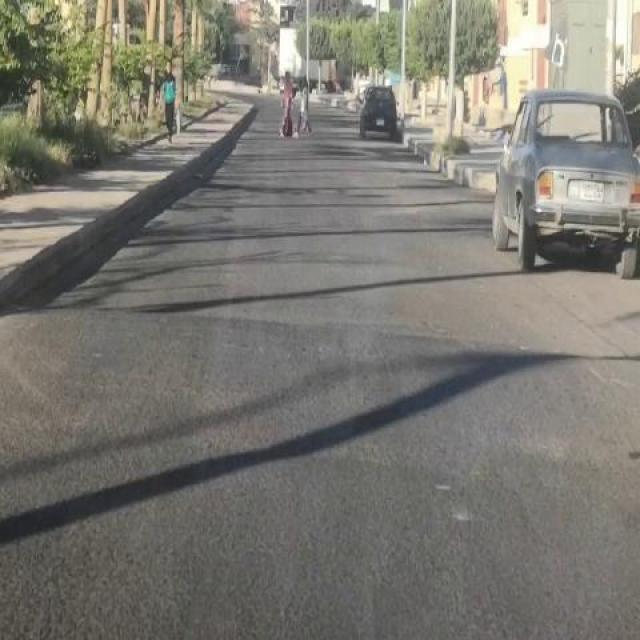Unmarked Bump: (0, 304, 640, 483)
